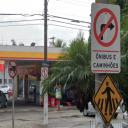NoSeguir: (41, 68, 48, 78)
